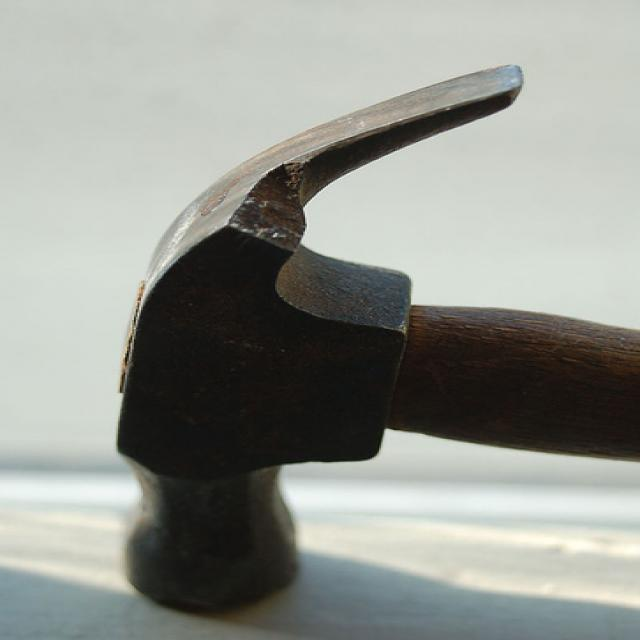hammer: (107, 61, 640, 614)
